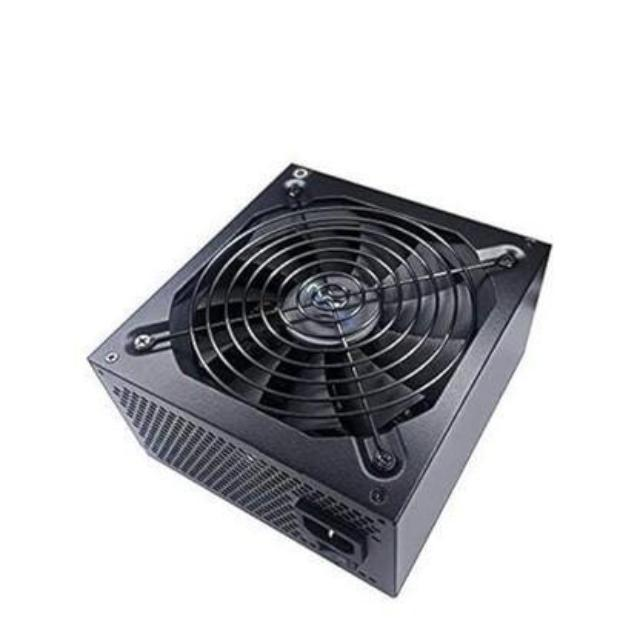PSU: (82, 152, 558, 603)
